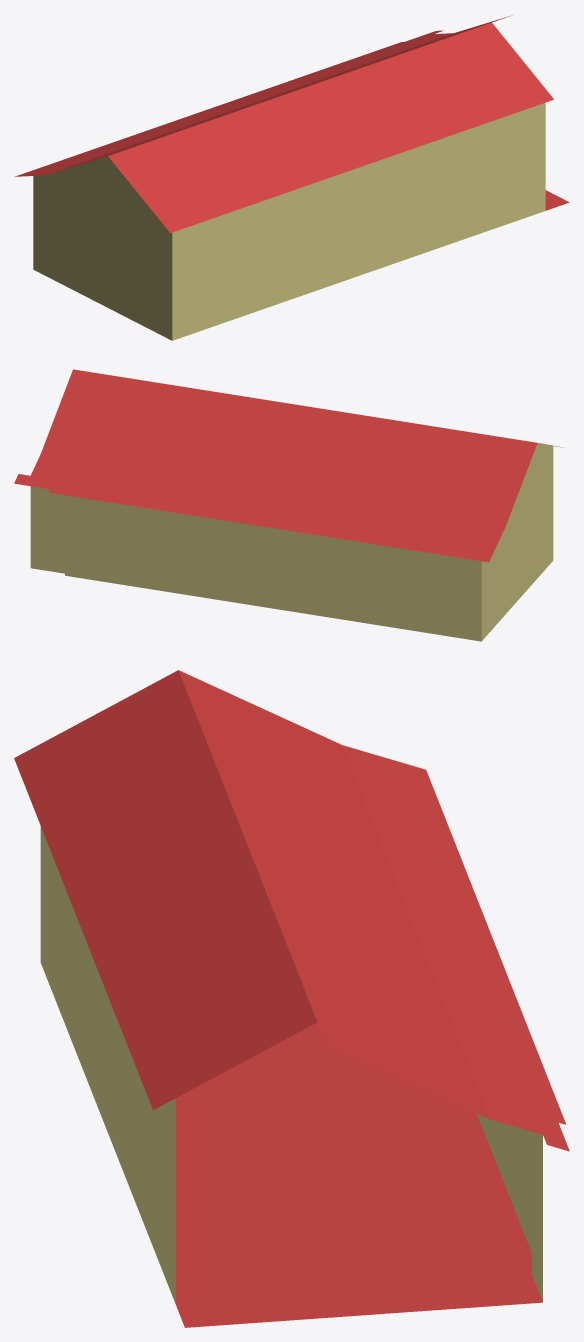
3 views of the same model, one above another, from view 1: azimuth 30°, elevation 25°; view 2: azimuth 150°, elevation 25°; view 3: azimuth 270°, elevation 25° (orthographic). The views are drawn at different scales.
Bounding box in the file's own units: 40.81 × 23.85 × 12.94.
